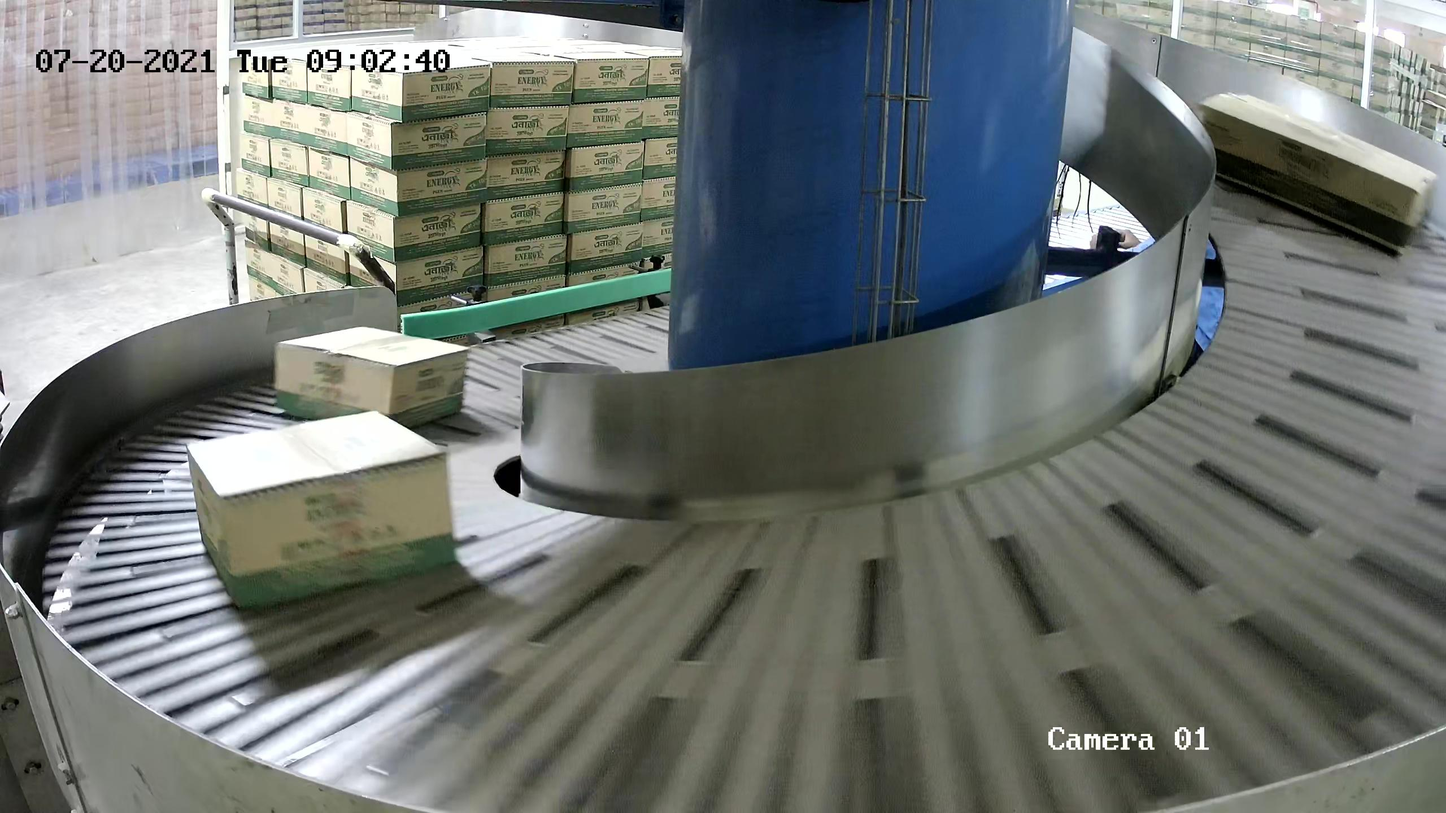Box: (183, 407, 458, 613), (1196, 89, 1440, 261), (272, 323, 472, 429)
